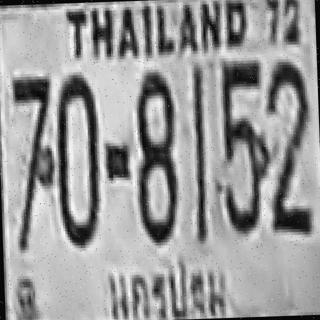N02: (262, 60, 310, 194), (266, 106, 312, 231)
N07: (10, 73, 54, 178)
N08: (133, 70, 180, 238), (134, 87, 180, 241)
P28: (104, 252, 230, 320)
